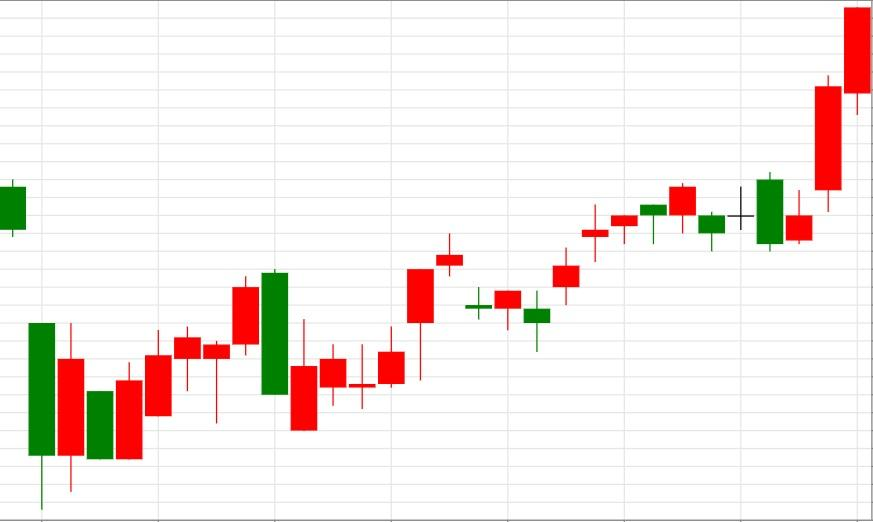bearish_engulfing_fall: (28, 268, 289, 509)
